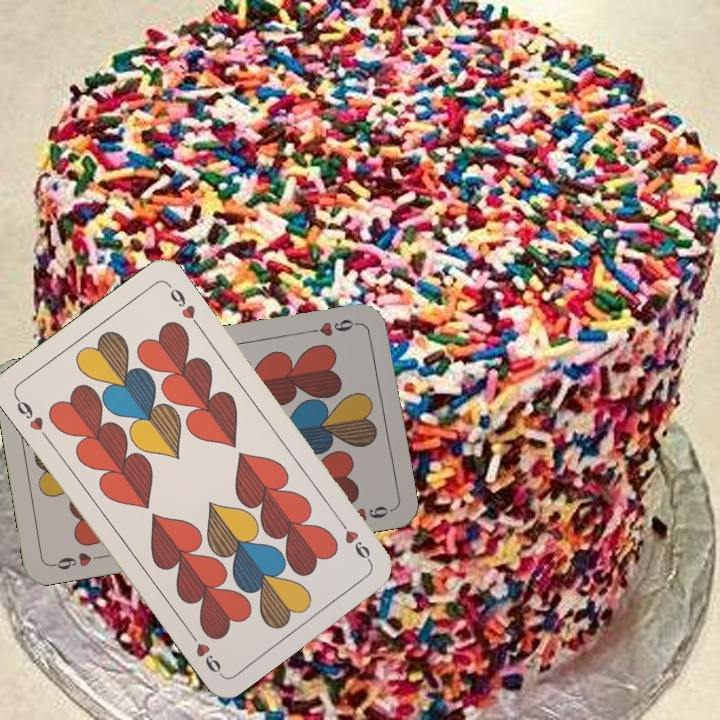H9: (11, 392, 52, 443), (334, 514, 374, 566), (48, 548, 106, 573), (304, 315, 363, 339)
